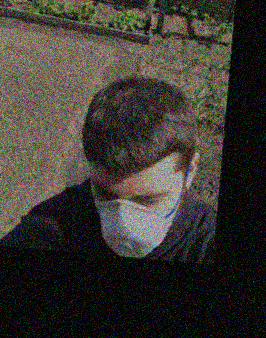with_mask: (86, 172, 179, 257)
